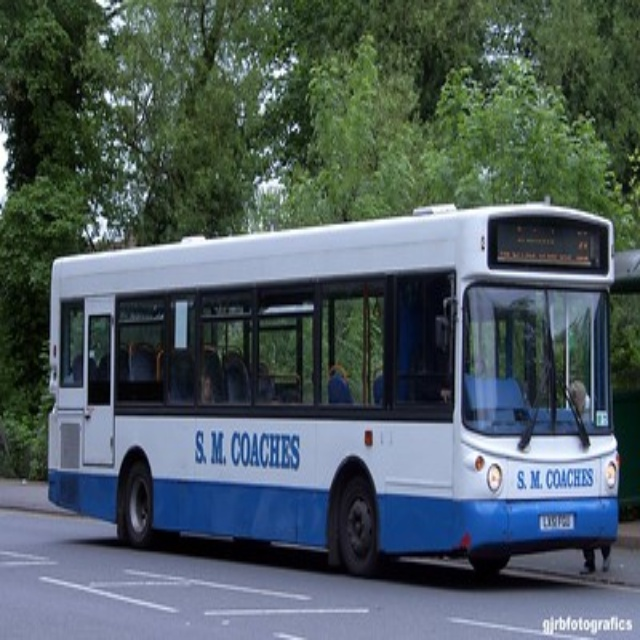Bus: (46, 202, 618, 577)
